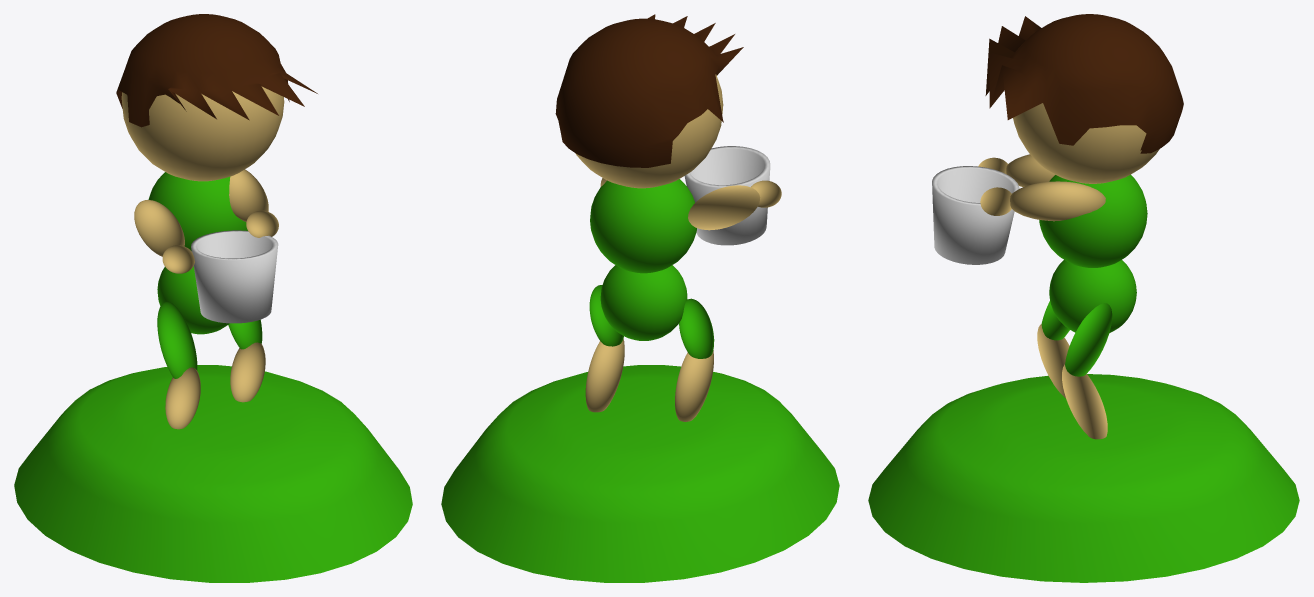
Rendered from er_Green_Boy-mod.fbx.
3 renders of one model, left to right at view 1: azimuth 30°, elevation 25°; view 2: azimuth 150°, elevation 25°; view 3: azimuth 270°, elevation 25°, orthographic.
Visible parts, largest first — view 1: Circle, Sphere_009, Circle_001; view 2: Circle, Sphere_009, Circle_001; view 3: Circle, Sphere_009, Circle_001.
Boxes of the visible parts, x1,y1,x2,y2 form: Circle: (14,365,412,582); Sphere_009: (116,14,317,429); Circle_001: (134,169,278,323); Circle: (441,365,839,582); Sphere_009: (555,14,743,421); Circle_001: (600,146,781,245); Circle: (868,374,1299,582); Sphere_009: (985,14,1183,439); Circle_001: (932,154,1105,264).
Size of the model in its own units: 1.22 by 1.63 by 1.35.
